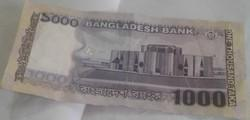1000 taka: (24, 1, 248, 118)
